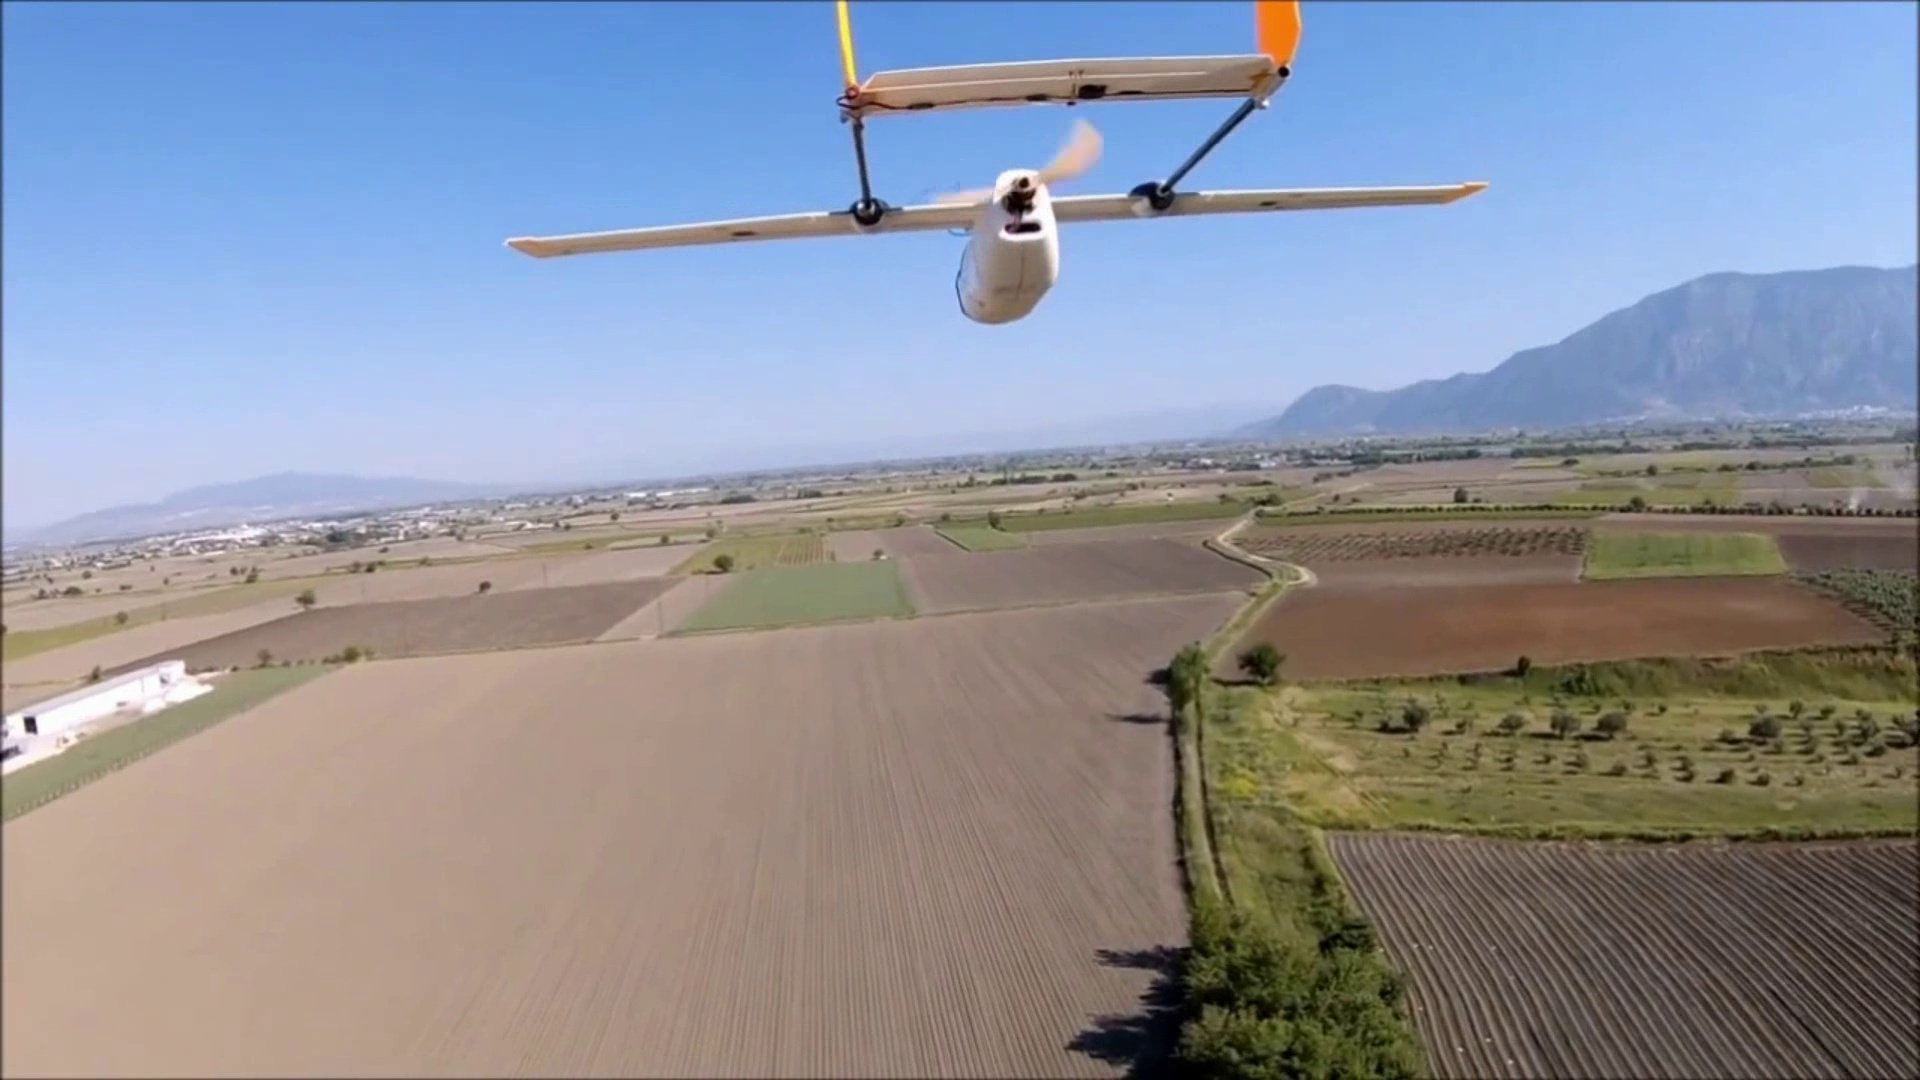airplane: (512, 4, 1489, 327)
